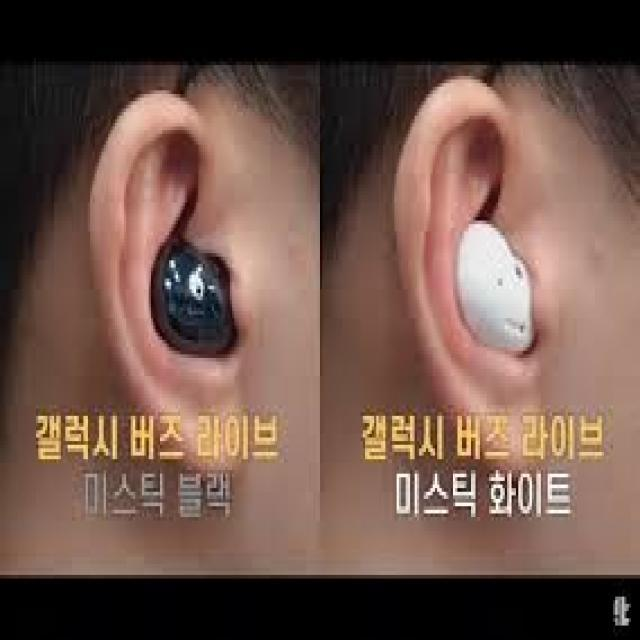earphone: (137, 227, 248, 365), (447, 212, 530, 365)
